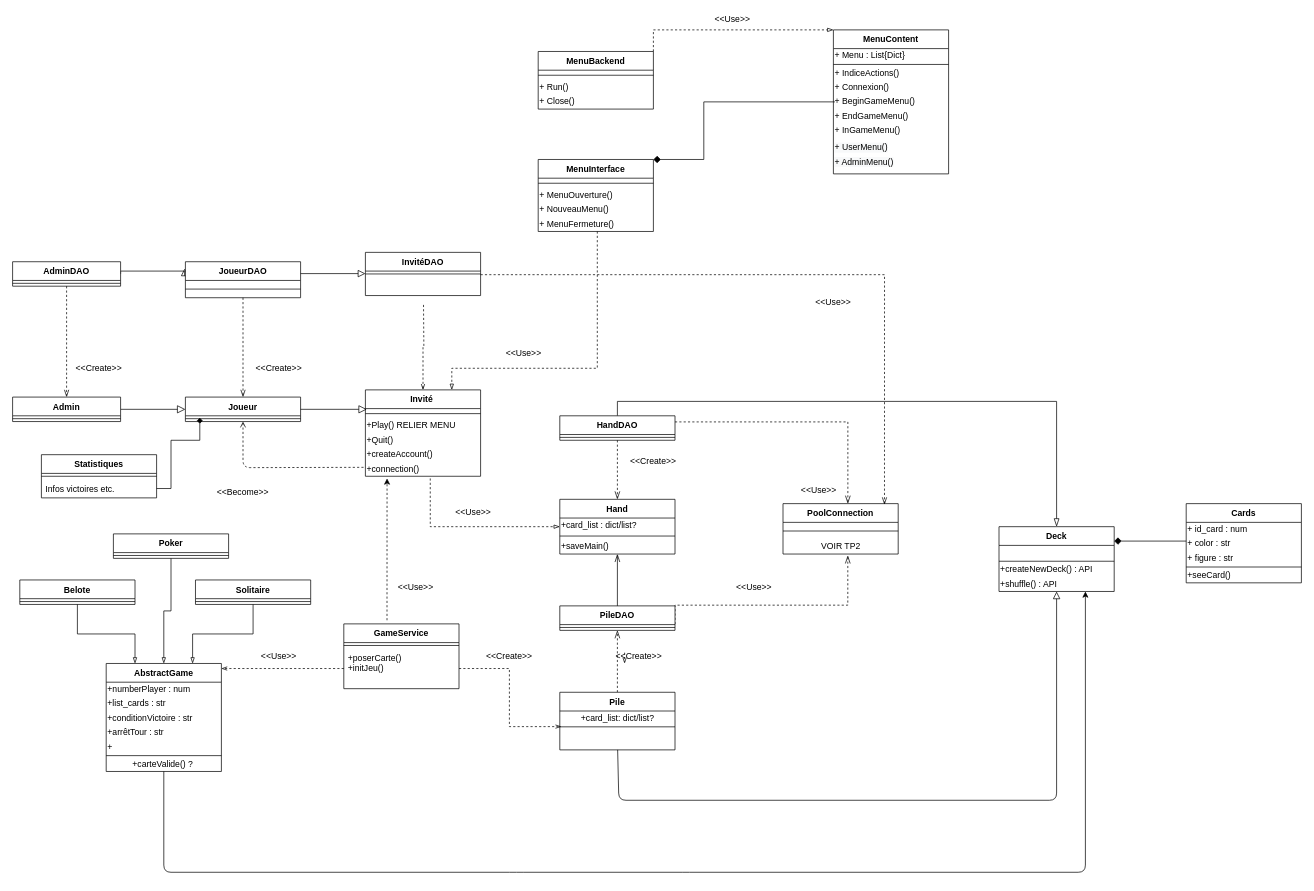
This 1314x891 diagram has some shape labels left out. Each missing label, with the centre of its shape:
"+ addAccounttoData()" goes at (x=423, y=274).
"Pli en cours" goes at (x=617, y=721).
